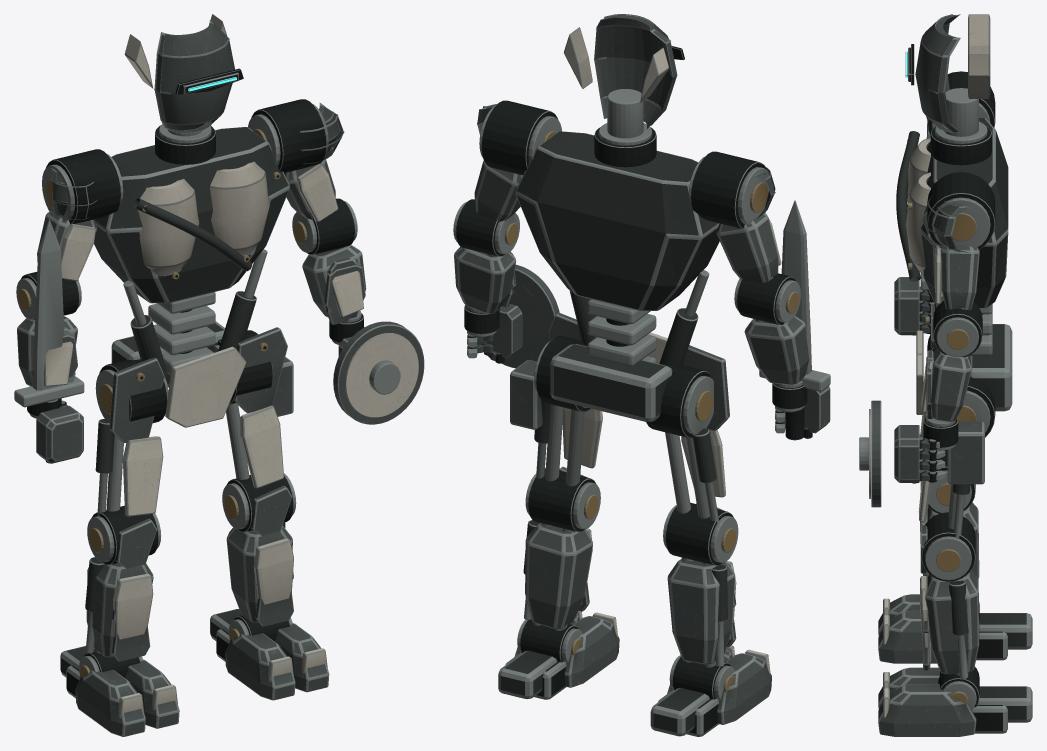
File: speed-t2-hunter.glb
3 views of the same model, side by side, from view 1: azimuth 30°, elevation 25°; view 2: azimuth 150°, elevation 25°; view 3: azimuth 270°, elevation 25° (orthographic).
Visible parts, largest first — view 1: chest__metal, pelvis__metal, pelvis__clay, chest__clay, head__clay, kneeL__clay, kneeR__clay, shieldL__clay, ankleR__clay, ankleL__clay, weaponR__metal, shoulderR__metal (+18 smaller); view 2: chest__metal, pelvis__metal, head__clay, kneeL__clay, kneeR__clay, shoulderR__metal, ankleL__metal, ankleR__metal, kneeR__metal, shoulderL__metal, kneeL__metal, elbowR__clay (+19 smaller); view 3: chest__metal, ankleL__clay, head__clay, kneeL__clay, pelvis__metal, kneeL__metal, shoulderL__metal, shoulderL__clay, ankleL__metal, ankleR__clay, elbowL__clay, hipL__clay (+15 smaller).
Part boxes in pixels (left/top/right/bottom): chest__metal: left=94, top=124, right=289, bottom=303; pelvis__metal: left=95, top=249, right=273, bottom=422; pelvis__clay: left=109, top=327, right=287, bottom=443; chest__clay: left=137, top=161, right=269, bottom=275; head__clay: left=124, top=14, right=234, bottom=133; kneeL__clay: left=226, top=486, right=293, bottom=626; kneeR__clay: left=86, top=518, right=156, bottom=661; shieldL__clay: left=333, top=321, right=424, bottom=424; ankleR__clay: left=75, top=659, right=179, bottom=736; ankleL__clay: left=225, top=623, right=329, bottom=700; weaponR__metal: left=14, top=219, right=84, bottom=411; shoulderR__metal: left=42, top=149, right=123, bottom=224; chest__metal: left=515, top=123, right=719, bottom=310; pelvis__metal: left=534, top=270, right=713, bottom=437; head__clay: left=564, top=14, right=677, bottom=128; kneeL__clay: left=525, top=466, right=592, bottom=628; kneeR__clay: left=667, top=503, right=736, bottom=664; shoulderR__metal: left=688, top=151, right=773, bottom=279; ankleL__metal: left=498, top=619, right=582, bottom=699; ankleR__metal: left=650, top=655, right=735, bottom=736; kneeR__metal: left=663, top=502, right=738, bottom=667; shoulderL__metal: left=479, top=100, right=561, bottom=175; kneeL__metal: left=523, top=468, right=600, bottom=630; elbowR__clay: left=744, top=315, right=809, bottom=384; chest__metal: left=896, top=118, right=1008, bottom=308; ankleL__clay: left=878, top=667, right=976, bottom=736; head__clay: left=915, top=14, right=990, bottom=132; kneeL__clay: left=920, top=525, right=979, bottom=674; pelvis__metal: left=924, top=291, right=1012, bottom=437; kneeL__metal: left=921, top=512, right=975, bottom=678; shoulderL__metal: left=927, top=172, right=995, bottom=309; shoulderL__clay: left=922, top=196, right=979, bottom=310; ankleL__metal: left=938, top=666, right=1032, bottom=733; ankleR__clay: left=878, top=594, right=936, bottom=663; elbowL__clay: left=921, top=348, right=971, bottom=421; hipL__clay: left=918, top=421, right=984, bottom=522.
Bounding box in the file's own units: 2.57 × 4.3 × 1.02.
Materials: 11 (10 with a texture image).
